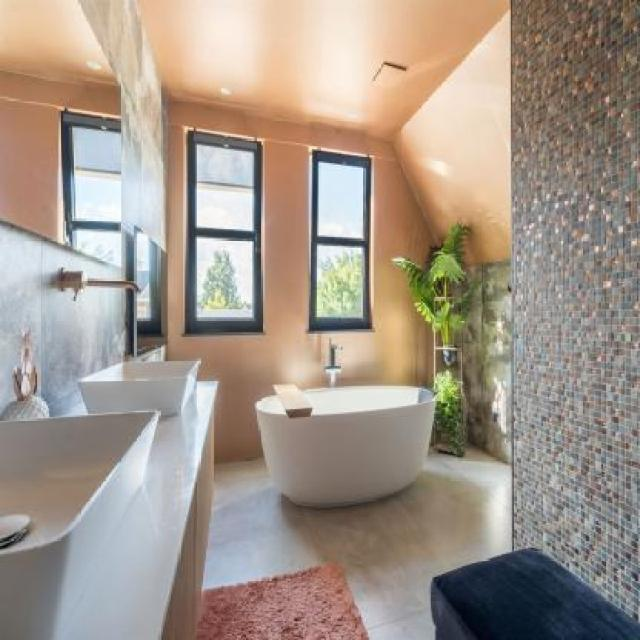floor: (197, 442, 510, 640)
